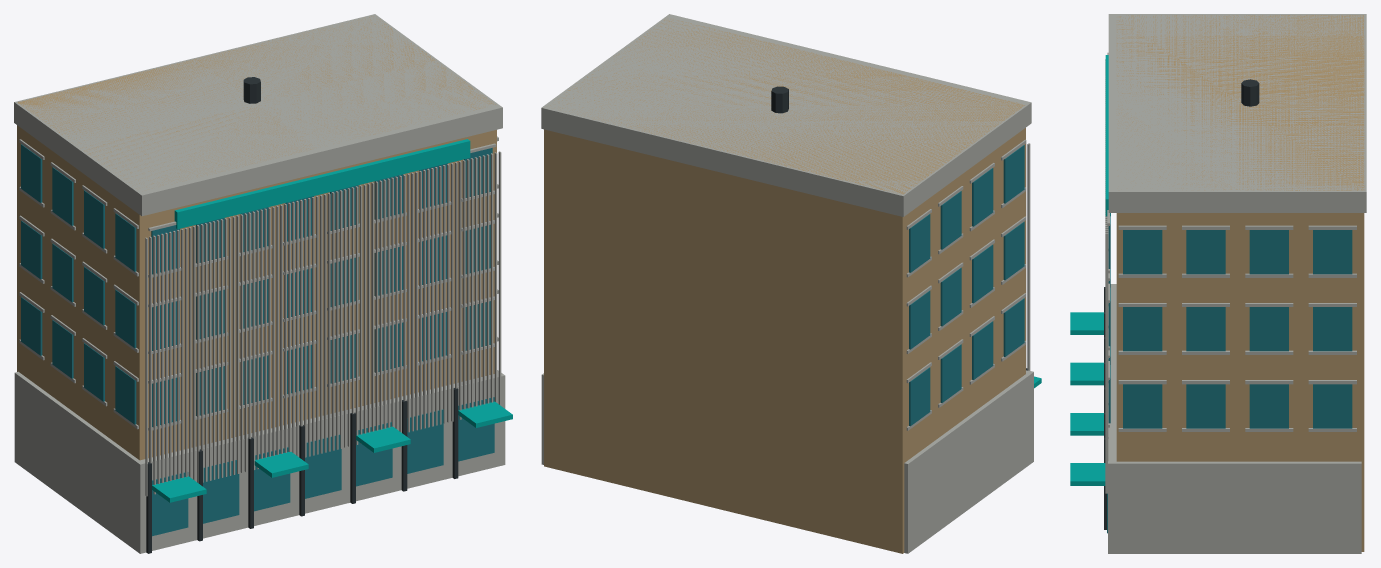
File: JHB_MidRise03_LOD1.fbx
3 renders of one model, left to right at view 1: azimuth 30°, elevation 25°; view 2: azimuth 150°, elevation 25°; view 3: azimuth 270°, elevation 25°, orthographic.
Parts seen in each view (by area): view 1: JHB_MidRise03_LOD1_Concrete, JHB_MidRise03_LOD1_FacadeAtlas, JHB_MidRise03_LOD1_TealGlass, JHB_MidRise03_LOD1_BlankSignBand, JHB_MidRise03_LOD1_DarkMetal, JHB_MidRise03_LOD1_Accent; view 2: JHB_MidRise03_LOD1_FacadeAtlas, JHB_MidRise03_LOD1_Concrete, JHB_MidRise03_LOD1_TealGlass; view 3: JHB_MidRise03_LOD1_Concrete, JHB_MidRise03_LOD1_FacadeAtlas, JHB_MidRise03_LOD1_TealGlass, JHB_MidRise03_LOD1_Accent, JHB_MidRise03_LOD1_DarkMetal, JHB_MidRise03_LOD1_BlankSignBand.
Boxes of the visible parts, x1,y1,x2,y2 form: JHB_MidRise03_LOD1_Concrete: [14, 14, 505, 553]; JHB_MidRise03_LOD1_FacadeAtlas: [17, 16, 496, 460]; JHB_MidRise03_LOD1_TealGlass: [21, 144, 494, 536]; JHB_MidRise03_LOD1_BlankSignBand: [174, 139, 470, 229]; JHB_MidRise03_LOD1_DarkMetal: [146, 77, 458, 553]; JHB_MidRise03_LOD1_Accent: [152, 401, 512, 502]; JHB_MidRise03_LOD1_FacadeAtlas: [544, 19, 1025, 553]; JHB_MidRise03_LOD1_Concrete: [541, 14, 1033, 553]; JHB_MidRise03_LOD1_TealGlass: [909, 145, 1024, 426]; JHB_MidRise03_LOD1_Concrete: [1105, 14, 1366, 553]; JHB_MidRise03_LOD1_FacadeAtlas: [1116, 15, 1364, 551]; JHB_MidRise03_LOD1_TealGlass: [1107, 213, 1352, 533]; JHB_MidRise03_LOD1_Accent: [1070, 312, 1105, 485]; JHB_MidRise03_LOD1_DarkMetal: [1104, 79, 1259, 529]; JHB_MidRise03_LOD1_BlankSignBand: [1105, 55, 1110, 216].
Bounding box in the file's own units: 11.75 × 11.6 × 8.18.
Materials: 6 (1 with a texture image).
